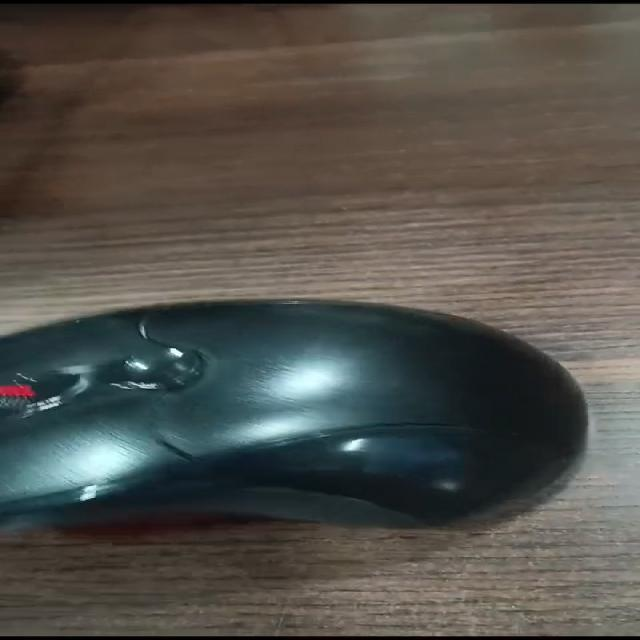mouse: (6, 249, 616, 587)
